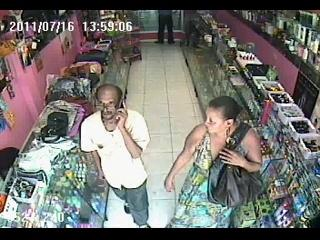Normal: (163, 96, 263, 228), (80, 84, 150, 228), (154, 10, 175, 44), (75, 50, 109, 66)
